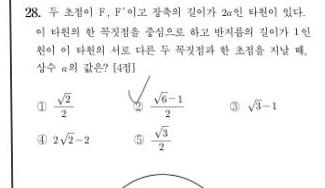choice: (128, 93, 144, 114)
not-choice: (34, 132, 49, 147), (227, 99, 241, 114), (34, 100, 48, 114), (131, 133, 145, 146)
